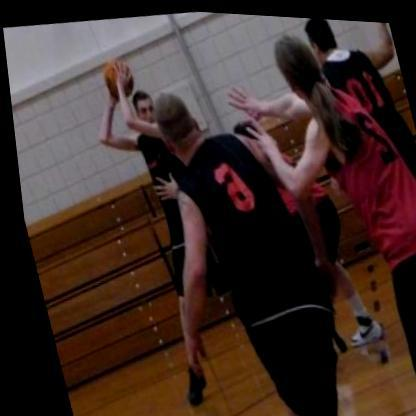basketball: (93, 51, 139, 106)
